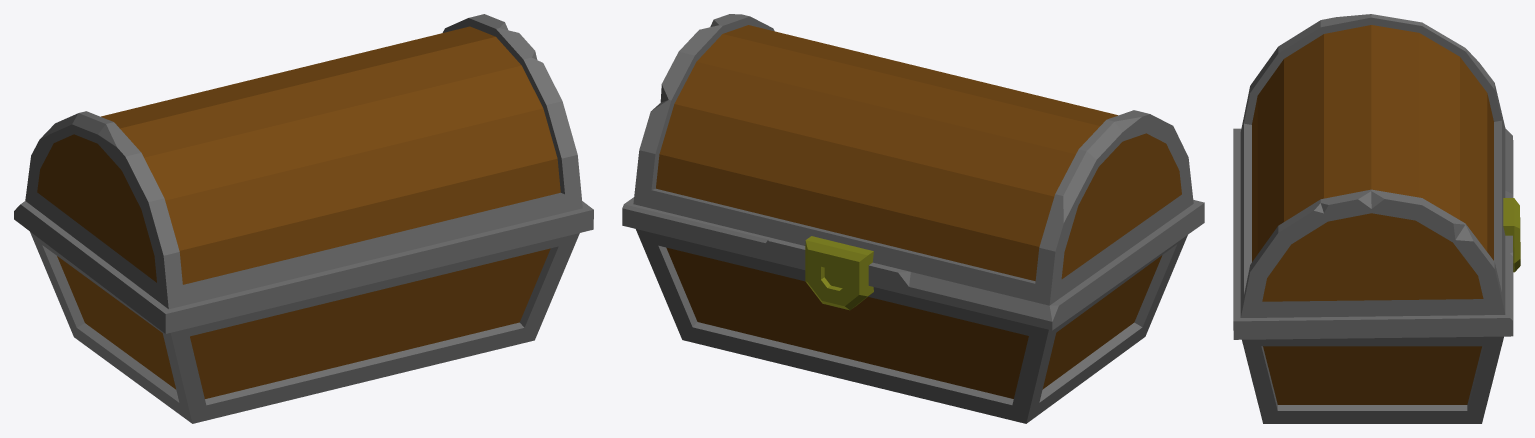
The model's file is Chest.fbx.
The picture shows the model from 3 angles, left to right: view 1: azimuth 30°, elevation 25°; view 2: azimuth 150°, elevation 25°; view 3: azimuth 270°, elevation 25°; orthographic projection. The views are drawn at different scales.
Visible parts, largest first — view 1: Chest, Chest_1; view 2: Chest, Chest_1, Chest_2; view 3: Chest, Chest_1, Chest_2.
Part boxes in pixels (x1,y1,x2,y2): Chest: (14,14,593,333); Chest_1: (30,232,579,423); Chest: (622,14,1204,330); Chest_1: (636,229,1187,423); Chest_2: (805,236,873,310); Chest: (1233,14,1513,339); Chest_1: (1242,336,1503,423); Chest_2: (1503,198,1520,272).
Size of the model in its own units: 1.4 by 0.8791 by 0.8218.
